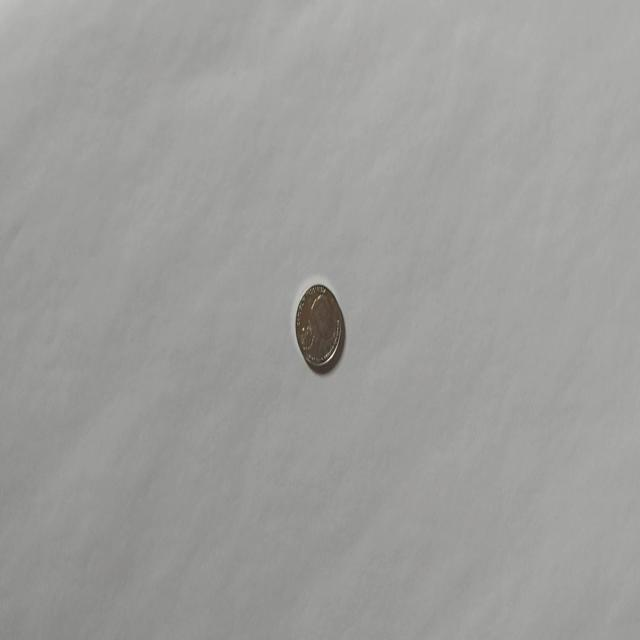seratus rupiah: (294, 282, 344, 372)
